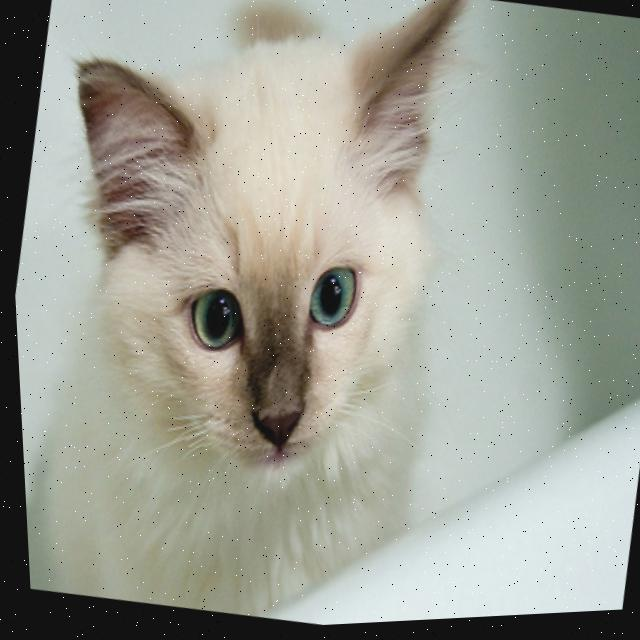Ragdoll: (0, 0, 509, 640)
